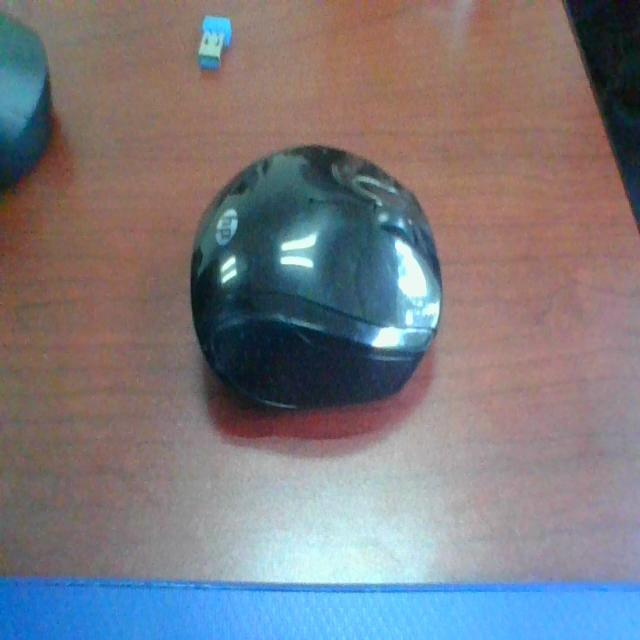mouse: (184, 117, 451, 419)
